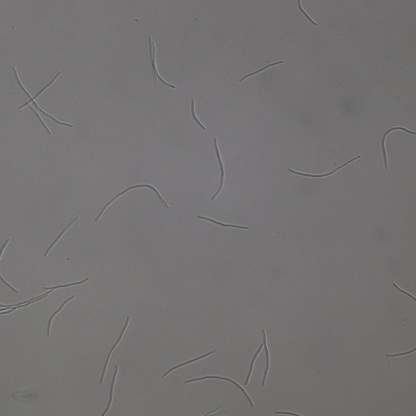Sensitive: (13, 66, 73, 134), (95, 183, 170, 221), (182, 375, 253, 406), (288, 152, 361, 179), (100, 318, 128, 380), (380, 125, 416, 170), (244, 329, 270, 387), (1, 288, 52, 317), (147, 36, 175, 88), (162, 349, 215, 376), (45, 217, 78, 254), (45, 294, 75, 334), (197, 214, 249, 235), (210, 137, 225, 200), (239, 60, 283, 81), (102, 366, 119, 416), (43, 276, 89, 290), (187, 98, 206, 129), (298, 1, 317, 25)
